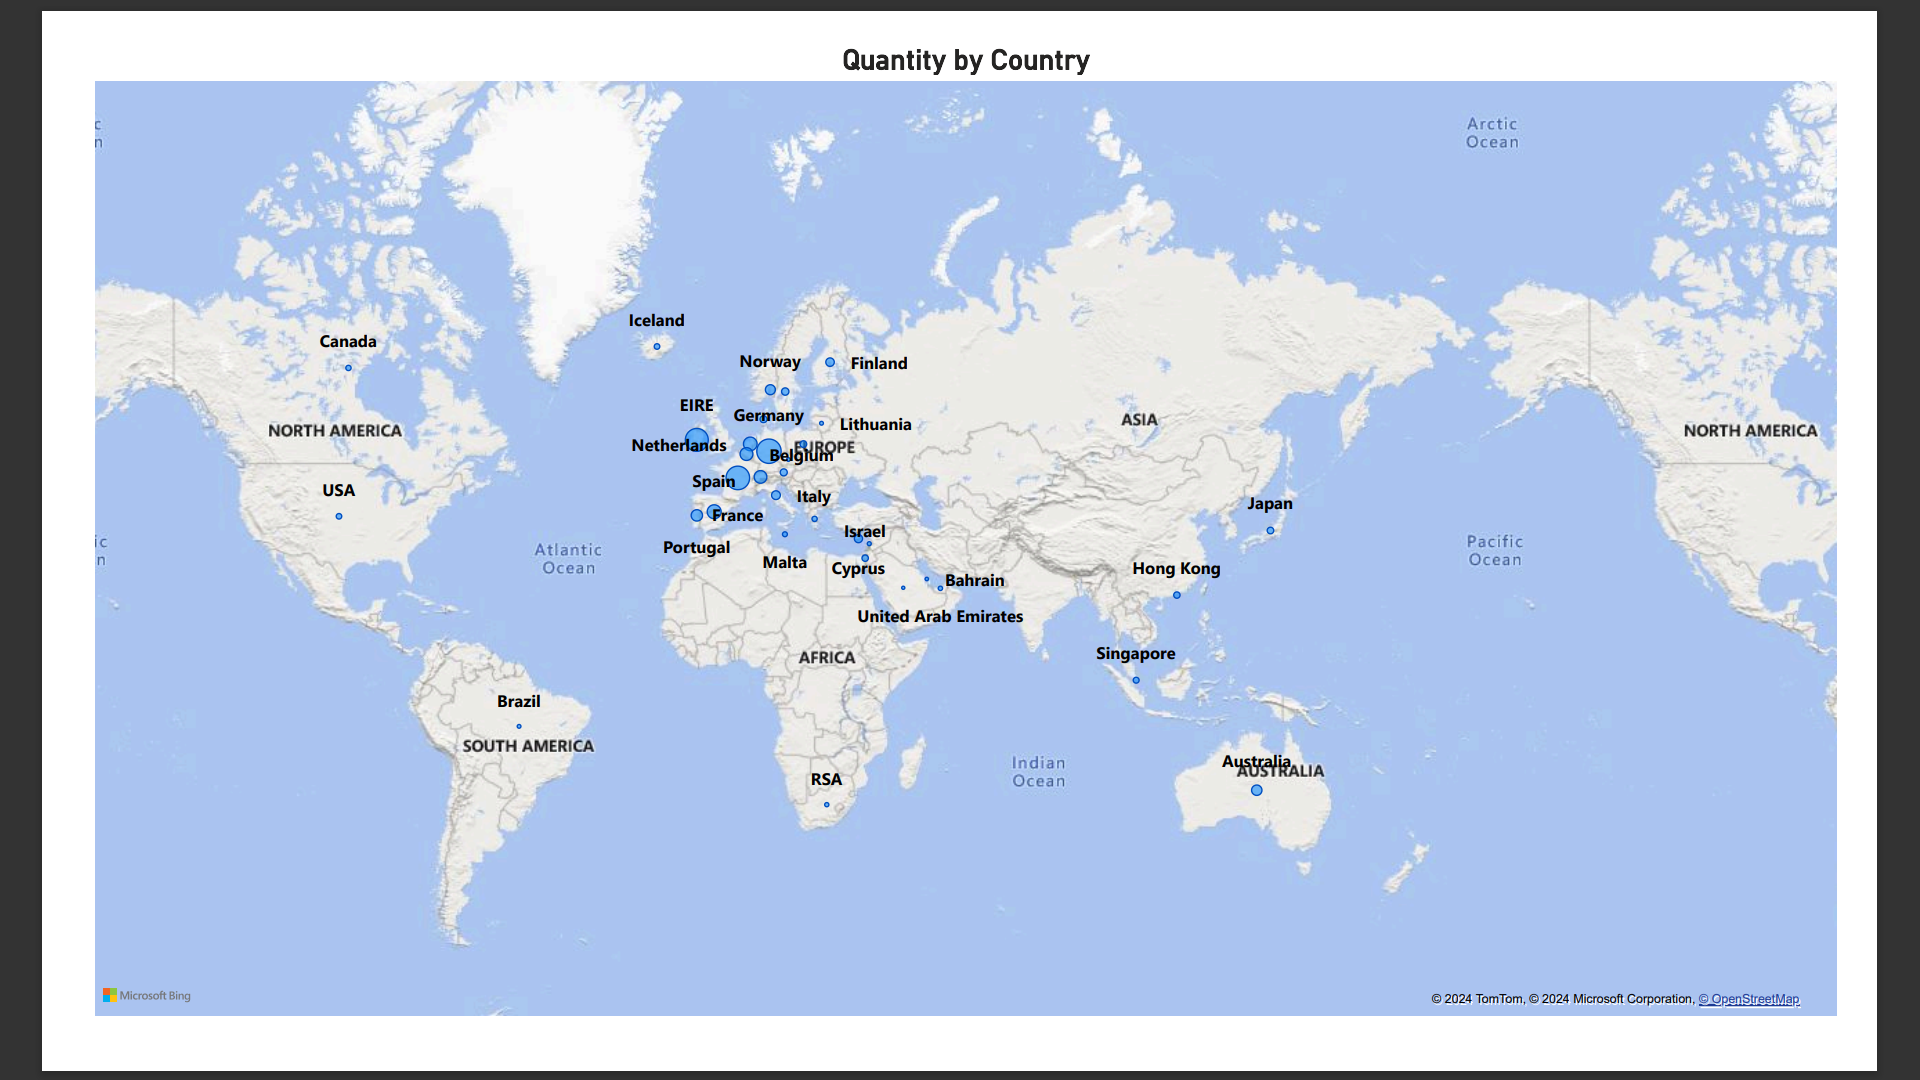

This screenshot's page, from the dashboard's own definition file:
{"tool":"powerbi","page":{"name":"Question 4 ","canvas":[1280,720],"ordinal":3},"visuals":[{"type":"map","title":" Quantity by Country","fields":{"Category":["Online Retail.Country"],"Size":["CountNonNull(Online Retail.Quantity)"]},"box":[10,0,1270,708.8],"z":0}]}

Visuals, with their boxes in screenshot pixels (x1, y1, x2, y2), scaled from the page's 1280x720 canvas onto the 1920x1080 screenshot:
" Quantity by Country" map: locate(15, 0, 1919, 1063)
